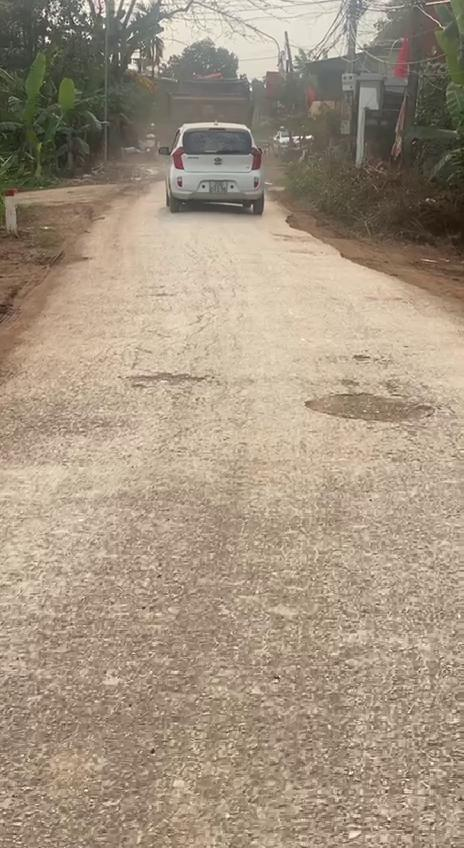pothole: (307, 385, 436, 431)
